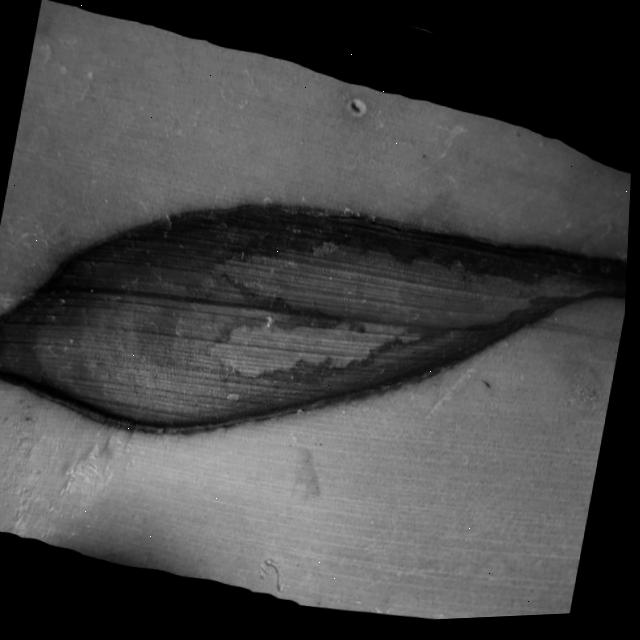mite: (473, 354, 615, 428), (554, 365, 614, 427), (325, 86, 389, 137), (433, 373, 503, 402), (260, 557, 297, 596), (477, 376, 506, 402), (346, 99, 372, 122), (312, 436, 336, 456), (418, 152, 435, 168), (25, 413, 42, 426), (484, 383, 499, 395), (317, 441, 330, 451), (421, 155, 431, 165)
sunburn: (0, 173, 631, 486)
